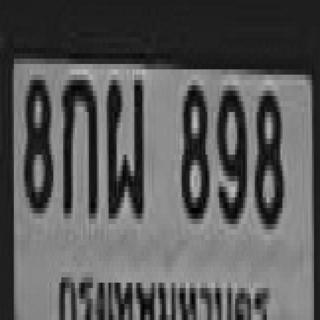A01: (61, 75, 95, 213)
A28: (105, 75, 142, 213)
N08: (253, 85, 281, 224), (22, 75, 51, 208), (180, 80, 207, 213)
N09: (215, 80, 245, 219)
